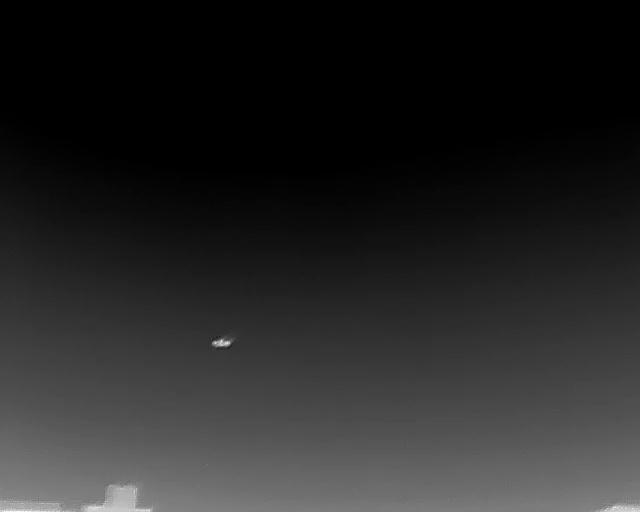fpv-drone: (211, 336, 234, 349)
